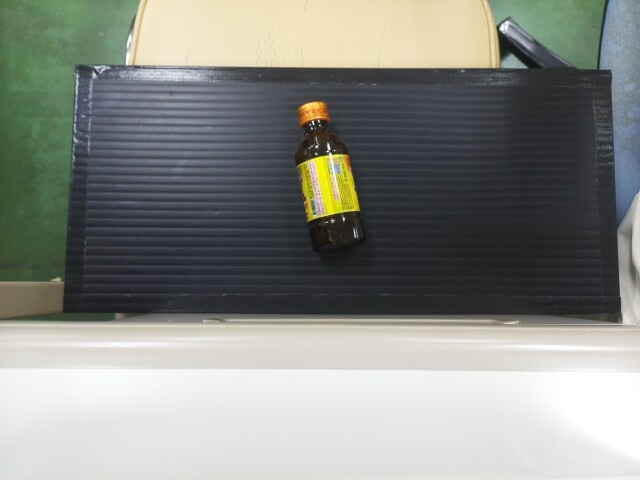glass_bottle: (288, 99, 366, 246)
